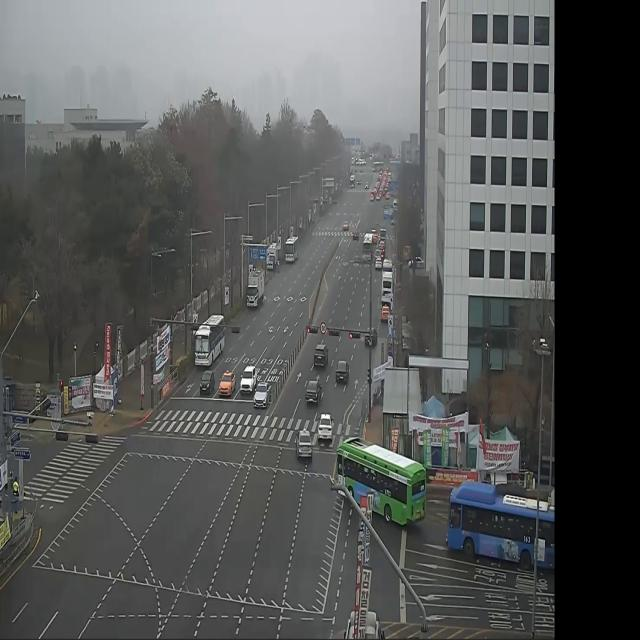car: (448, 466, 565, 572), (334, 430, 435, 535), (183, 310, 234, 376), (281, 232, 308, 270)
motorcycle: (295, 430, 316, 466), (199, 368, 217, 407), (218, 369, 236, 402), (241, 362, 257, 395), (309, 346, 326, 376), (305, 380, 319, 416), (253, 380, 270, 409), (336, 358, 348, 388), (317, 411, 328, 442)
truck: (242, 253, 266, 311), (262, 242, 281, 268)
